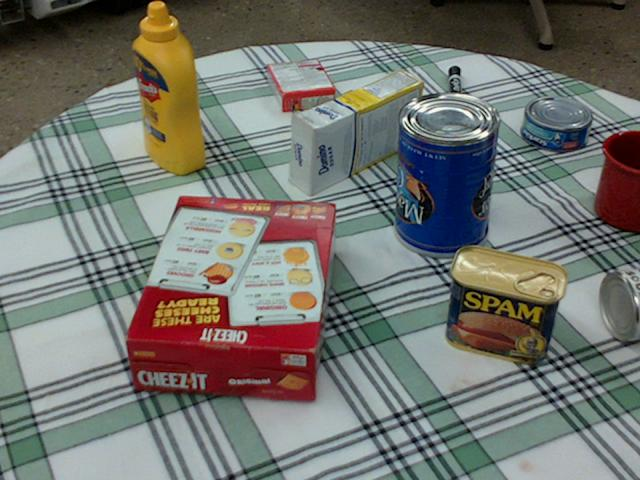cracker_box: (123, 198, 334, 399)
gelatin_box: (267, 60, 335, 111)
large_marker: (448, 65, 461, 117)
master_chef_can: (392, 91, 502, 255)
mug: (594, 131, 639, 232)
mustard_bottle: (133, 2, 203, 173)
potted_meat_can: (445, 245, 566, 362)
sugar_box: (290, 69, 422, 195)
tomato_soup_can: (601, 267, 639, 339)
tuna_fish_can: (521, 96, 592, 151)
